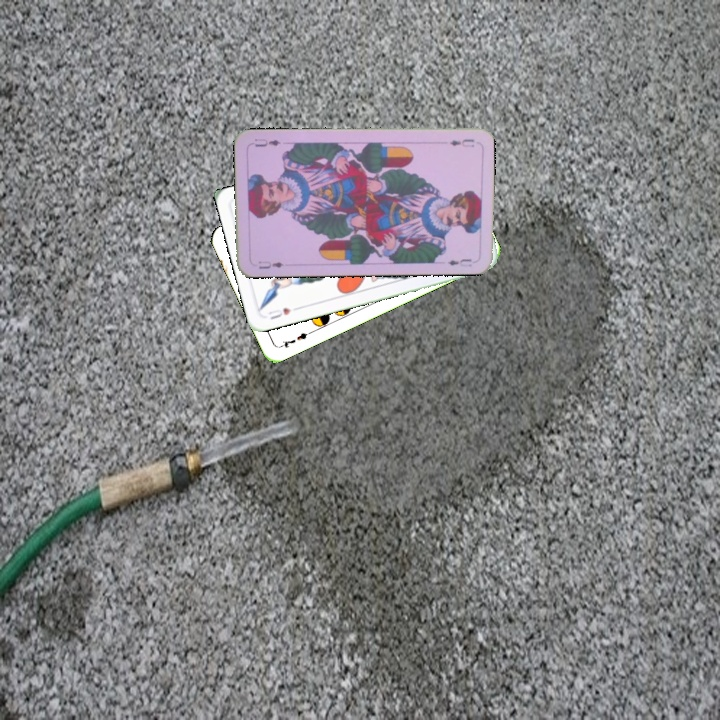E7: (276, 327, 314, 350)
EU: (254, 257, 286, 271), (446, 135, 477, 149)
HU: (264, 304, 294, 322)
